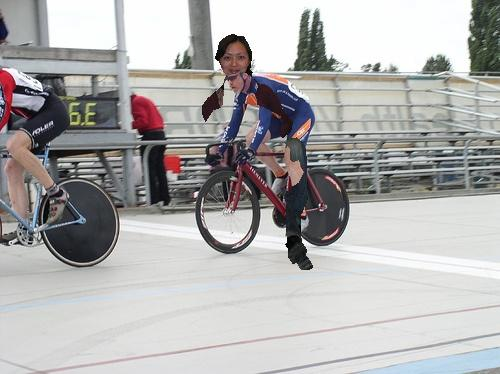tampered: (203, 35, 313, 270)
